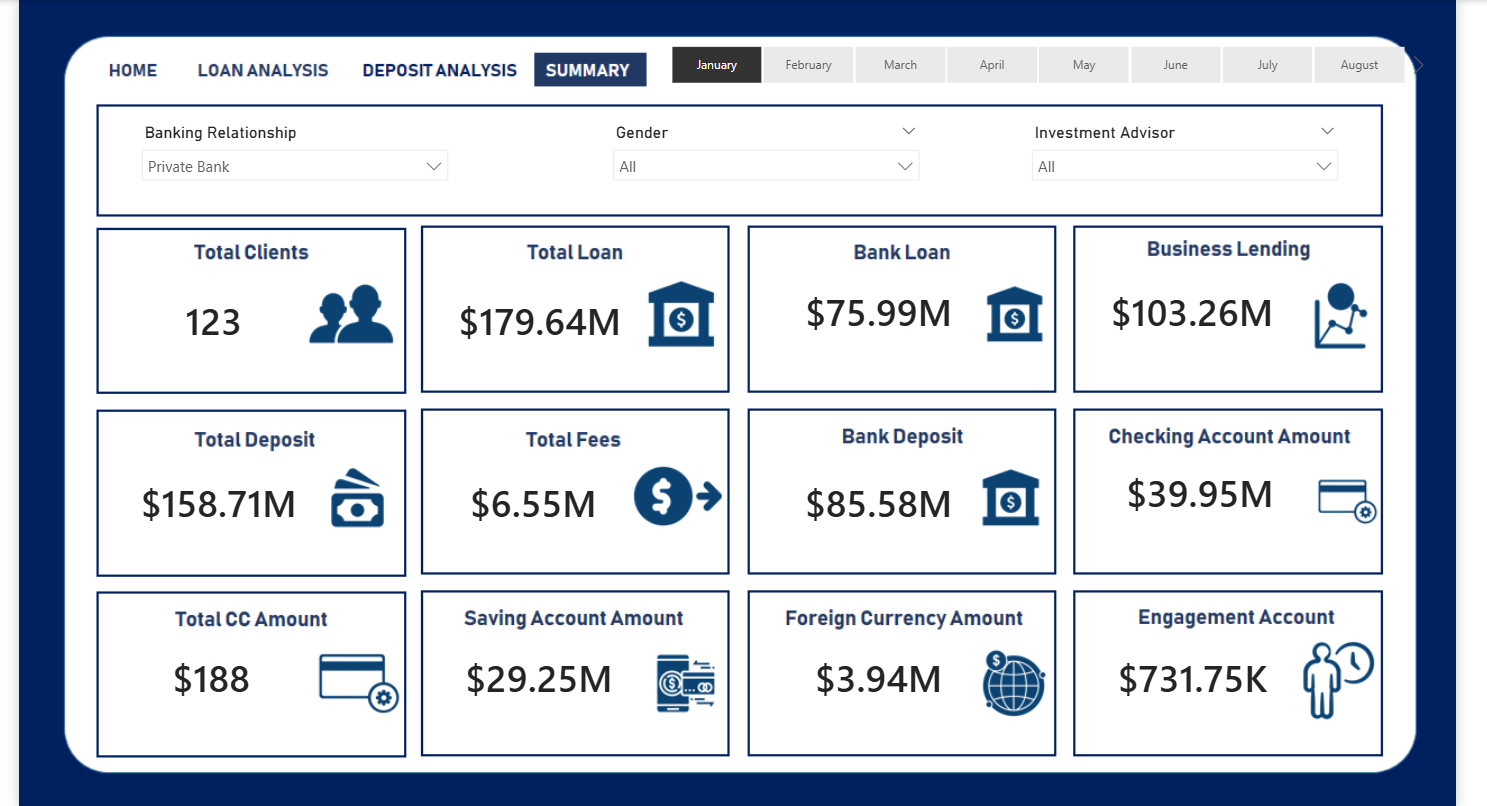

What the dashboard file says about the page in this screenshot:
{"tool":"powerbi","page":{"name":"Summary","canvas":[1280,720],"ordinal":3},"visuals":[{"type":"card","fields":{"Values":["DAX Measures.Engagment Length"]},"box":[946.3,546.4,198.2,114.9],"z":0},{"type":"card","fields":{"Values":["DAX Measures.Foreign Currency Account"]},"box":[667.2,546.4,198.2,114.9],"z":1000},{"type":"card","fields":{"Values":["DAX Measures.Bank Deposit"]},"box":[667.2,390.5,198.2,114.9],"z":2000},{"type":"card","fields":{"Values":["DAX Measures.Checking Accounts"]},"box":[953.4,382.3,198.2,114.9],"z":3000},{"type":"card","fields":{"Values":["DAX Measures.Bank Loan"]},"box":[667.2,220.5,198.2,114.9],"z":4000},{"type":"card","fields":{"Values":["DAX Measures.Business Lending"]},"box":[953.4,220.5,184.1,114.9],"z":5000},{"type":"card","fields":{"Values":["DAX Measures.Savings Account"]},"box":[360,546.4,207.6,114.9],"z":6000},{"type":"card","fields":{"Values":["DAX Measures.Total CC Amount"]},"box":[72.7,546.4,198.2,114.9],"z":7000},{"type":"card","fields":{"Values":["DAX Measures.Total Deposit"]},"box":[78.6,390.5,198.2,114.9],"z":8000},{"type":"card","fields":{"Values":["DAX Measures.Total Fees"]},"box":[365.9,390.5,184.1,114.9],"z":9000},{"type":"card","fields":{"Values":["DAX Measures.Total Clients"]},"box":[75,228.7,198.2,114.9],"z":10000},{"type":"card","fields":{"Values":["DAX Measures.Total Loan"]},"box":[365.9,228.7,195.8,114.9],"z":11000},{"type":"slicer","fields":{"Values":["Banking Relationship.Banking Relationship"]},"box":[98.5,104.3,292.9,75.7],"z":12000},{"type":"slicer","fields":{"Values":["Gender.Gender"]},"box":[518.9,104.3,292.9,75.7],"z":13000},{"type":"slicer","fields":{"Values":["Investment Advisor.Investment Advisor"]},"box":[891.3,104.3,292.9,75.7],"z":14000},{"type":"slicer","fields":{"Values":["Clients - Banking.Joined Bank.Variation.Date Hierarchy.Month"]},"box":[555.2,34.6,702.1,46.6],"z":15000},{"type":"actionButton","box":[72.8,44.2,58.5,31],"z":16000},{"type":"actionButton","box":[306.9,44.7,119.4,31],"z":17000},{"type":"actionButton","box":[297.9,44.6,147.8,30.5],"z":18000},{"type":"actionButton","box":[157.1,44.6,125.5,30.5],"z":19000}]}

Visuals, with their boxes on the page's 1280x720 design canvas (x1, y1, x2, y2). These are canvas units, not pixel positions in the 1487x806 screenshot, which may show the page scaled, cropped or inside an application window:
card - DAX Measures.Engagment Length: [946, 546, 1144, 661]
card - DAX Measures.Foreign Currency Account: [667, 546, 865, 661]
card - DAX Measures.Bank Deposit: [667, 390, 865, 505]
card - DAX Measures.Checking Accounts: [953, 382, 1152, 497]
card - DAX Measures.Bank Loan: [667, 220, 865, 335]
card - DAX Measures.Business Lending: [953, 220, 1138, 335]
card - DAX Measures.Savings Account: [360, 546, 568, 661]
card - DAX Measures.Total CC Amount: [73, 546, 271, 661]
card - DAX Measures.Total Deposit: [79, 390, 277, 505]
card - DAX Measures.Total Fees: [366, 390, 550, 505]
card - DAX Measures.Total Clients: [75, 229, 273, 344]
card - DAX Measures.Total Loan: [366, 229, 562, 344]
slicer - Banking Relationship.Banking Relationship: [98, 104, 391, 180]
slicer - Gender.Gender: [519, 104, 812, 180]
slicer - Investment Advisor.Investment Advisor: [891, 104, 1184, 180]
slicer - Clients - Banking.Joined Bank.Variation.Date Hierarchy.Month: [555, 35, 1257, 81]
actionButton: [73, 44, 131, 75]
actionButton: [307, 45, 426, 76]
actionButton: [298, 45, 446, 75]
actionButton: [157, 45, 283, 75]
